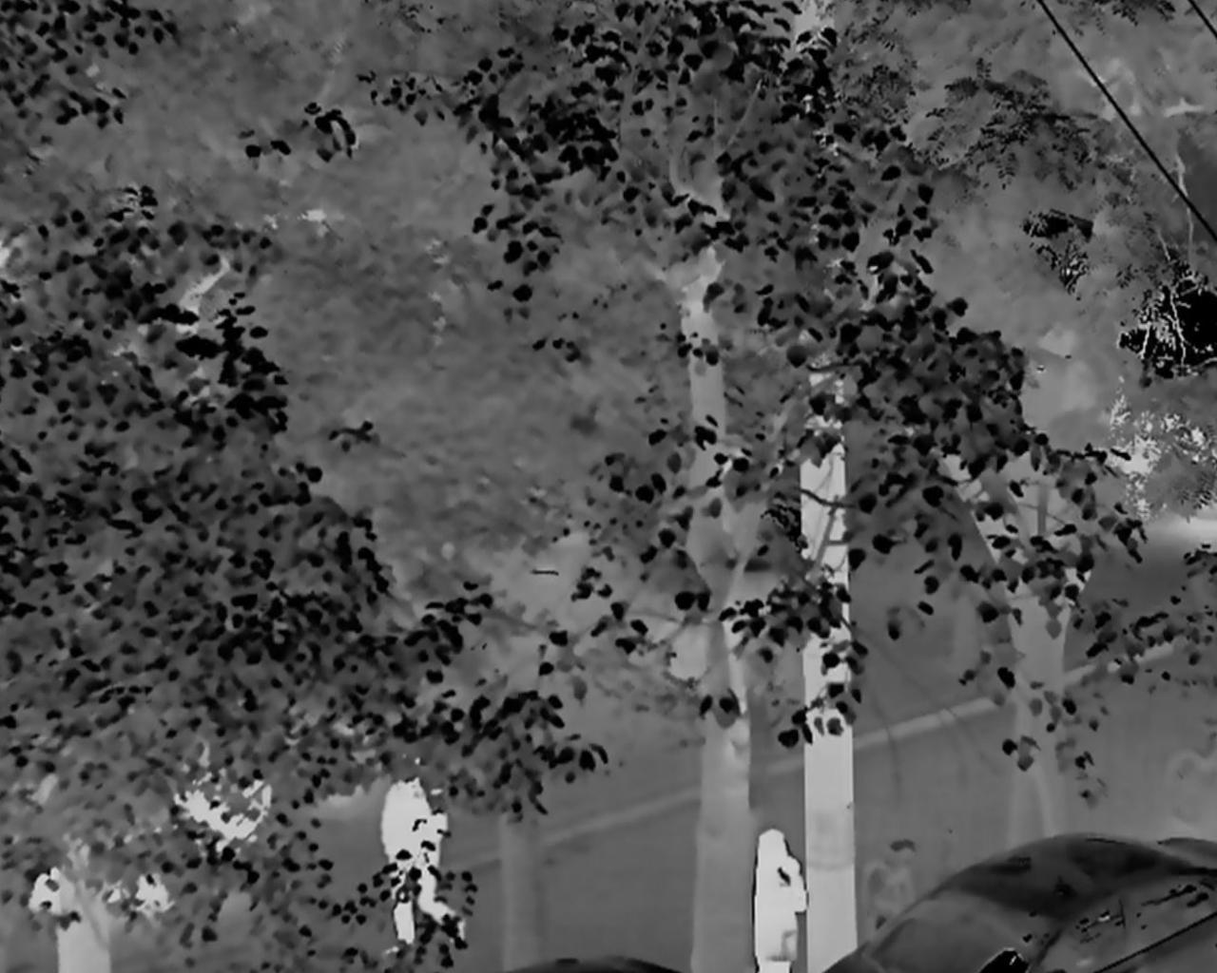person: (380, 761, 470, 956), (748, 828, 808, 973)
